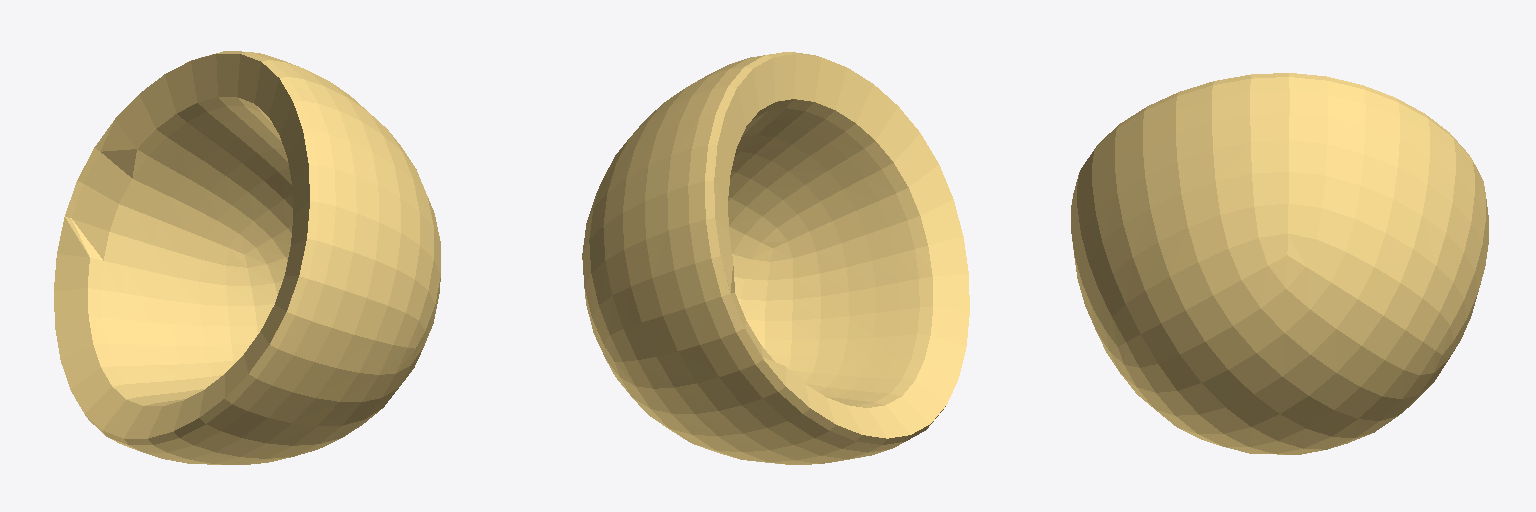
Rendered from olho_branco.obj.
3 renders of one model, left to right at view 1: azimuth 30°, elevation 25°; view 2: azimuth 150°, elevation 25°; view 3: azimuth 270°, elevation 25°, orthographic.
Parts seen in each view (by area): view 1: guarana_olho_branco_Cube.001_Material_0.001; view 2: guarana_olho_branco_Cube.001_Material_0.001; view 3: guarana_olho_branco_Cube.001_Material_0.001.
Boxes of the visible parts, <box> form: guarana_olho_branco_Cube.001_Material_0.001: <box>54,51,440,464</box>; guarana_olho_branco_Cube.001_Material_0.001: <box>582,52,969,464</box>; guarana_olho_branco_Cube.001_Material_0.001: <box>1071,73,1488,454</box>.
Size of the model in its own units: 1.72 by 1.95 by 1.97.